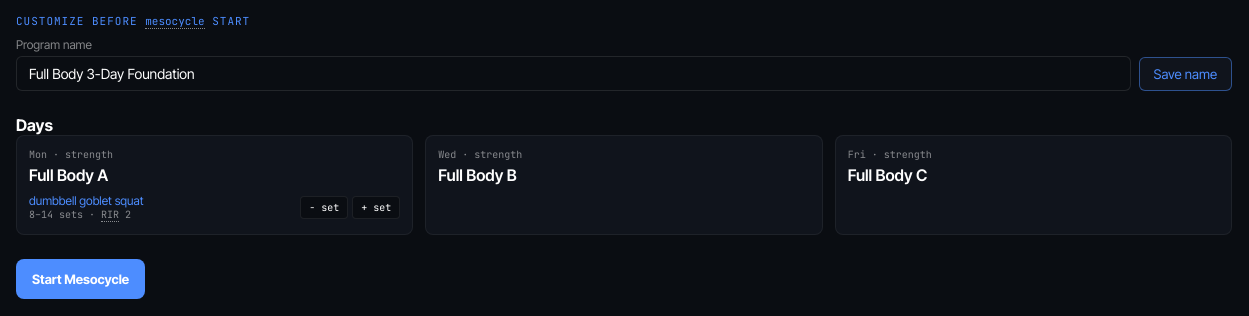
Scenario: <ForkWizard> › + set patches add_set and re-renders the refreshed set range
The width and height of the screenshot is (1249, 316).
expect the text "8–14 sets · RIR 2" is shown: met, box [29,208,144,222]
Click the button "+ set" at (376, 208), box [352,196,400,219]
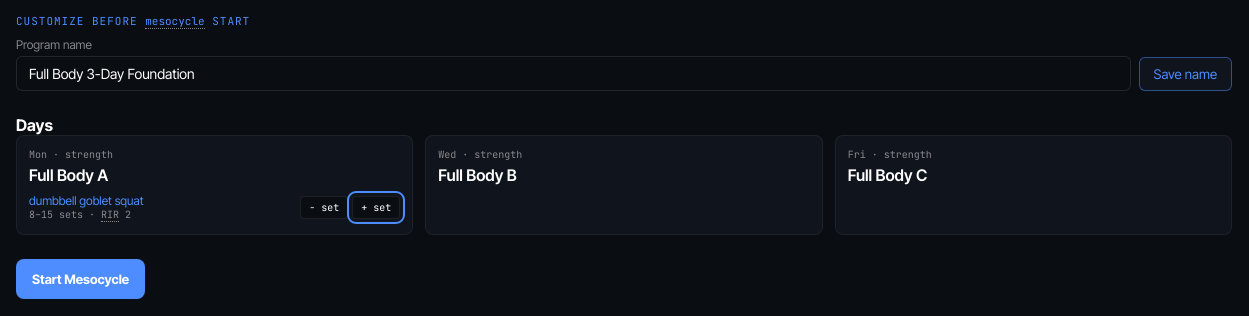
expect the text "8–15 sets · RIR 2" is shown: met, box [29,208,144,222]
